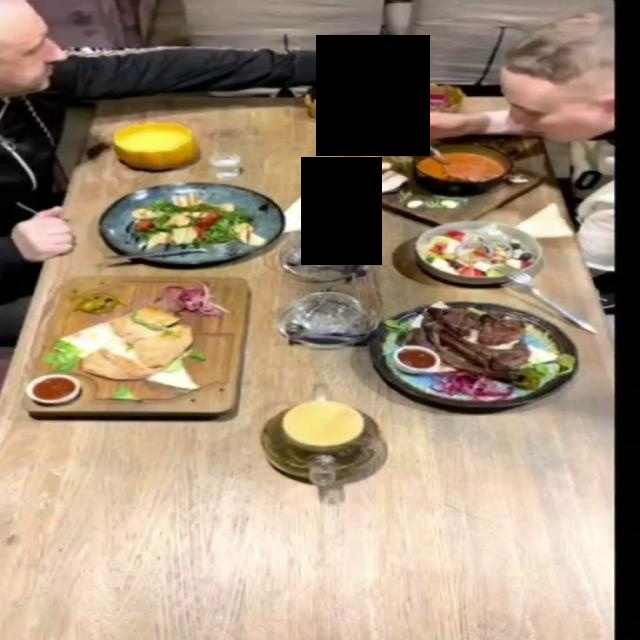meat: (24, 272, 255, 419), (366, 300, 579, 408)
salad: (94, 181, 280, 265), (413, 220, 545, 285)
soup: (323, 133, 551, 226), (112, 121, 198, 169)
tea: (249, 376, 404, 507)
